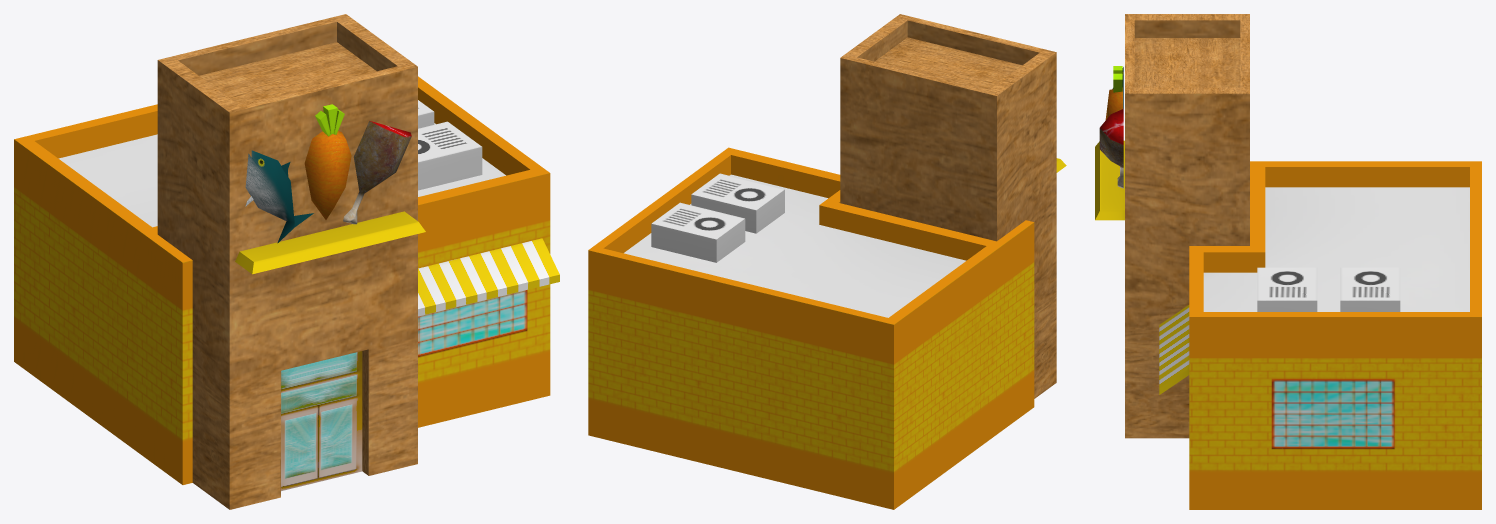
The model's file is mini-market.fbx.
3 renders of one model, left to right at view 1: azimuth 30°, elevation 25°; view 2: azimuth 150°, elevation 25°; view 3: azimuth 270°, elevation 25°, orthographic. The views are drawn at different scales.
Parts seen in each view (by area): view 1: polySurface121; view 2: polySurface121; view 3: polySurface121.
Boxes of the visible parts, left/top/right/bottom form: polySurface121: left=14, top=14, right=559, bottom=509; polySurface121: left=588, top=14, right=1066, bottom=509; polySurface121: left=1095, top=14, right=1481, bottom=509.
Size of the model in its own units: 4.84 by 5 by 5.08.
